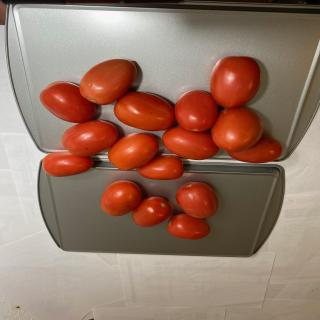Chilli: (38, 54, 283, 240)
Tomato: (79, 58, 137, 105), (210, 55, 261, 108), (114, 92, 175, 132), (40, 81, 96, 123), (211, 107, 263, 152), (61, 120, 118, 157), (162, 126, 219, 160), (108, 133, 159, 170), (174, 90, 218, 132), (176, 182, 218, 218), (100, 180, 142, 216), (227, 136, 283, 163), (131, 196, 172, 227), (42, 152, 94, 176), (137, 155, 184, 180), (167, 213, 210, 240)
